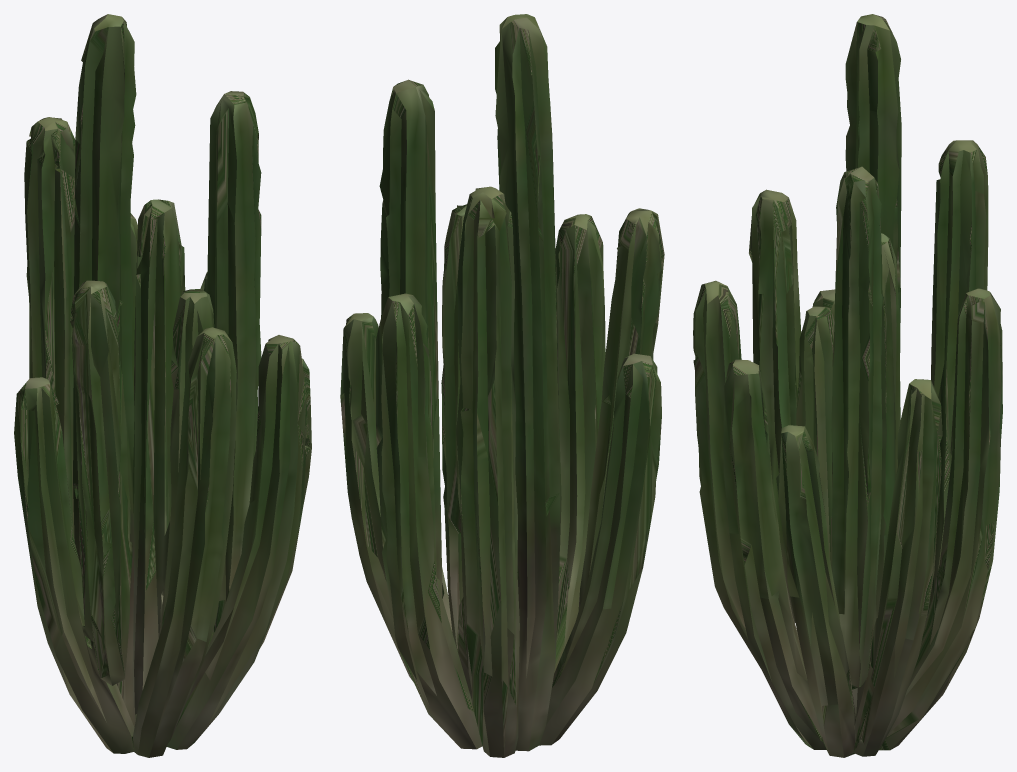
File: desert-plants-organ-pipe-cactus.glb
The picture shows the model from 3 angles, left to right: view 1: azimuth 30°, elevation 25°; view 2: azimuth 150°, elevation 25°; view 3: azimuth 270°, elevation 25°; orthographic projection. The views are drawn at different scales.
Parts seen in each view (by area): view 1: world; view 2: world; view 3: world.
Boxes of the visible parts, x1,y1,x2,y2 form: world: (14,14,311,757); world: (340,14,664,757); world: (693,14,1002,757).
Size of the model in its own units: 0.4018 by 0.9998 by 0.3968.
Materials: 1 (1 with a texture image).
